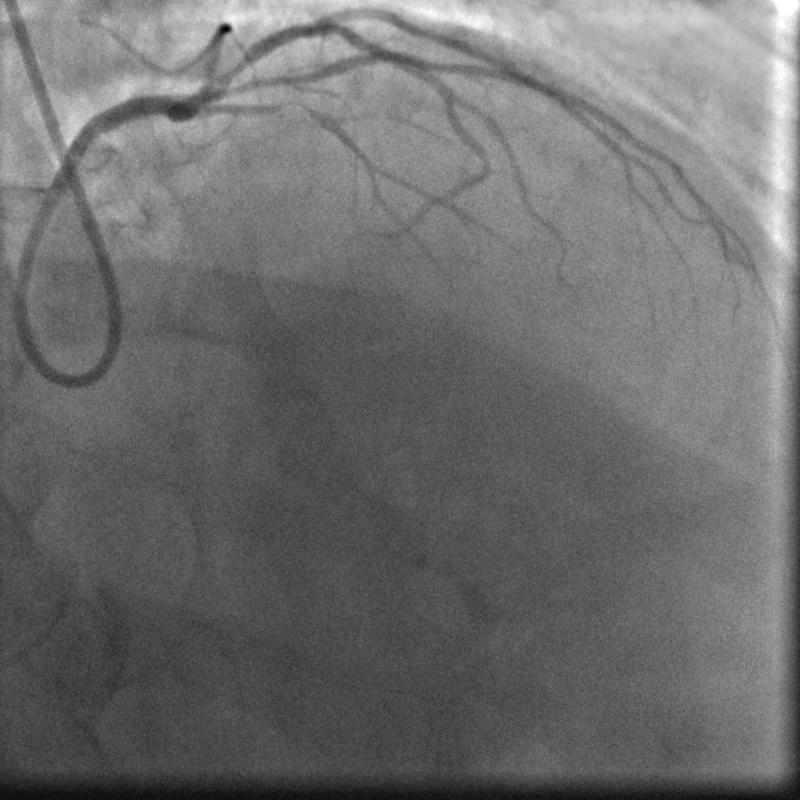Stenosis: (214, 51, 259, 85)
